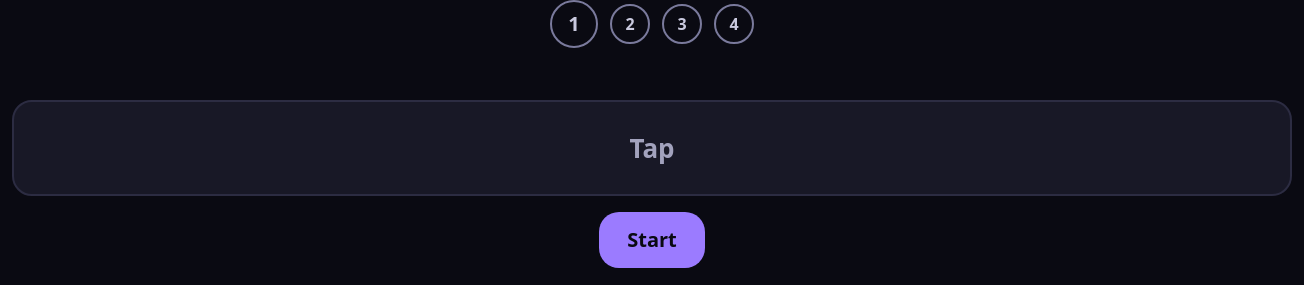
RhythmPad game feedback (perform) › respects reduced motion: no pulse or beat ring, but the verdict colour and icon show and stay
Click the button "Start" at x=652, y=240, box left=599, top=212, right=705, bottom=268
Wait 2099 ms
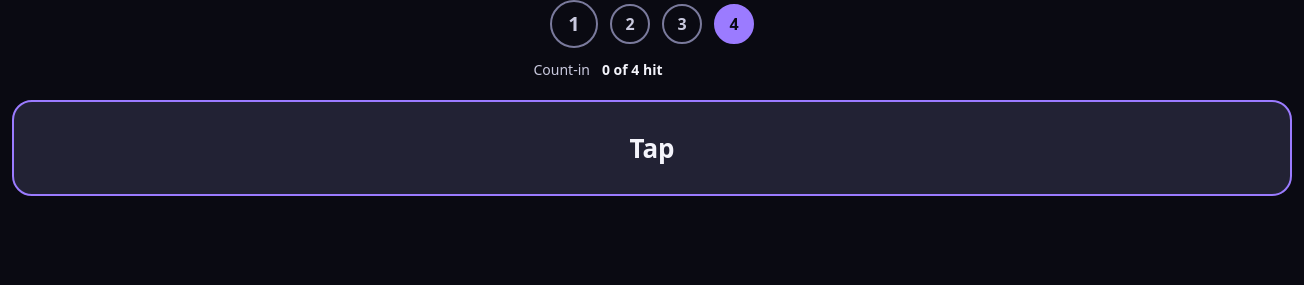
Press the mouse on the button with test id "tap-target" at x=652, y=148, box left=12, top=100, right=1292, bottom=196
Wait 299 ms
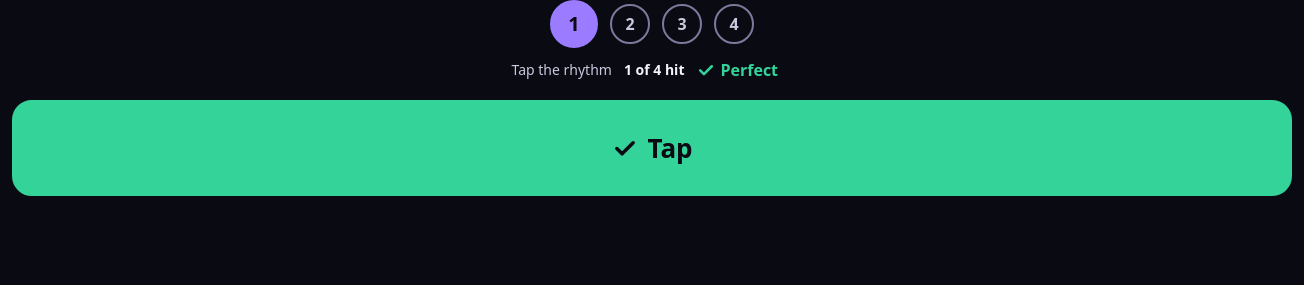
Result: the 2nd icon is shown at left=611, top=134, right=639, bottom=162
